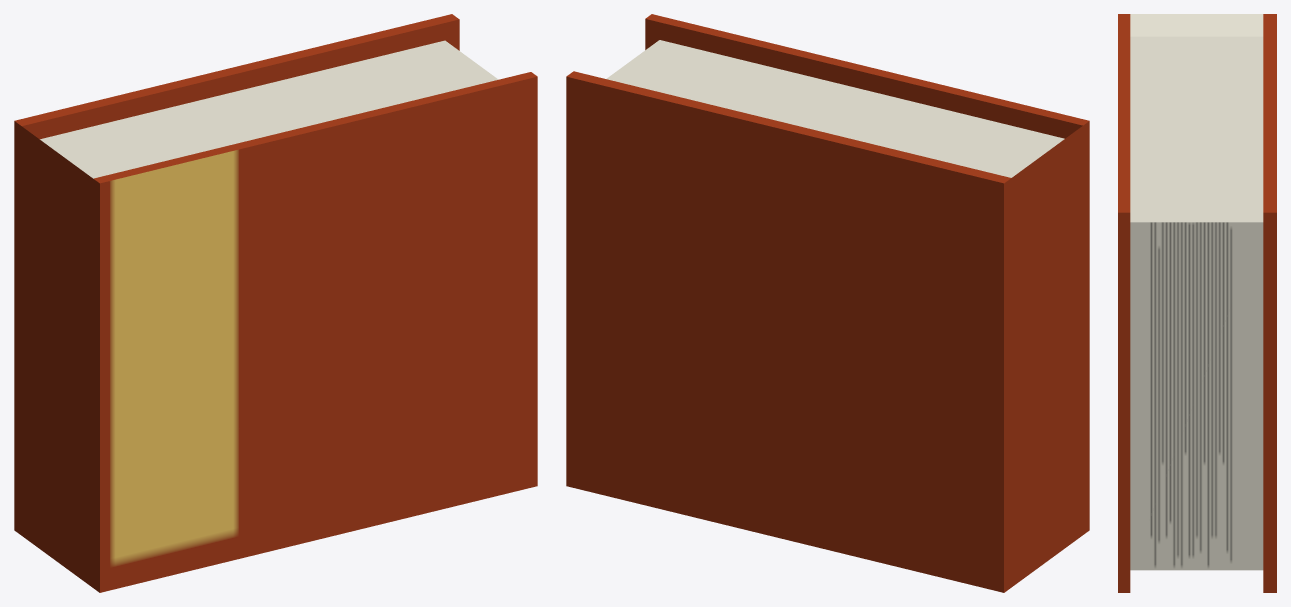
Rendered from Libro.obj.
3 views of the same model, side by side, from view 1: azimuth 30°, elevation 25°; view 2: azimuth 150°, elevation 25°; view 3: azimuth 270°, elevation 25° (orthographic). The views are drawn at different scales.
Visible parts, largest first — view 1: Libro_Animacion; view 2: Libro_Animacion; view 3: Libro_Animacion.
Boxes of the visible parts, x1,y1,x2,y2 form: Libro_Animacion: (14, 14, 537, 592); Libro_Animacion: (566, 14, 1089, 592); Libro_Animacion: (1118, 14, 1276, 592).
Size of the model in its own units: 35 by 31.28 by 11.84.
Materials: 1 (1 with a texture image).
